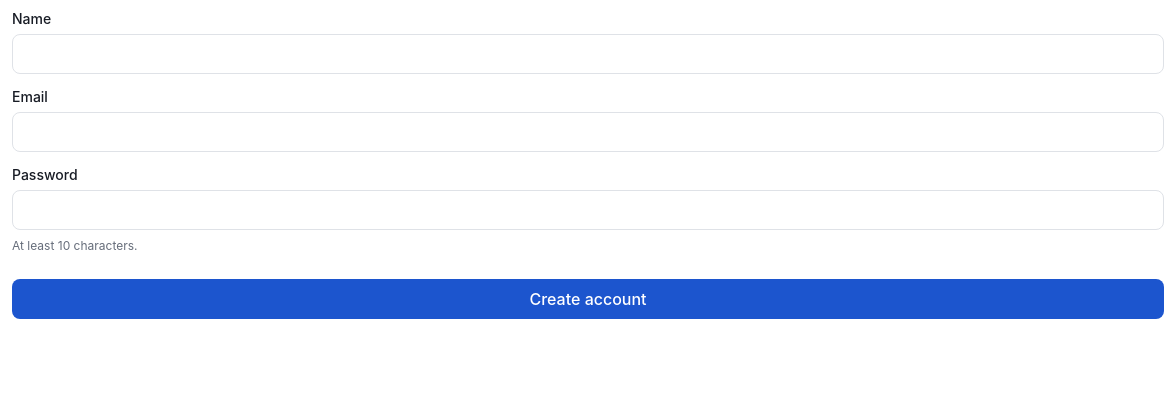
Test: RegisterForm › shows a conflict error for a duplicate email
Step 1. Type "Alice" into the field labelled "Name" → (588, 54), box [12, 34, 1164, 74]
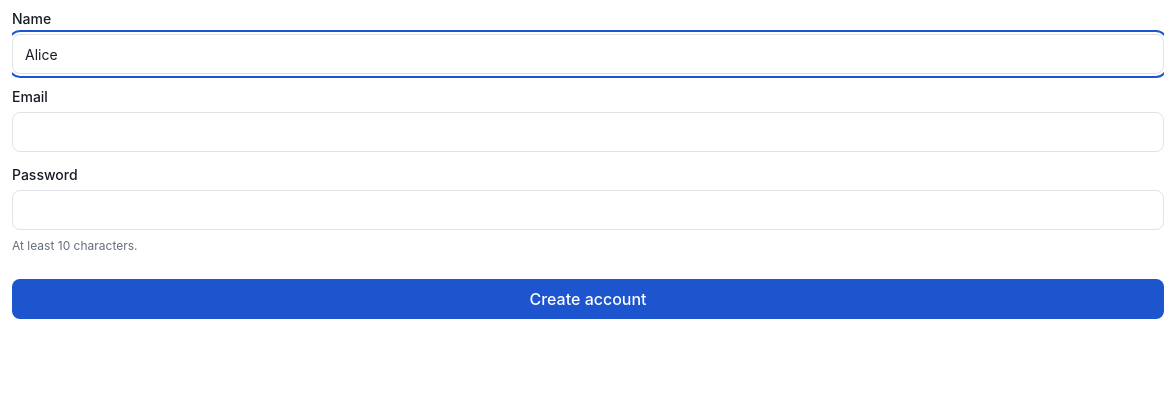
Step 2. Type "alice@example.com" into the field labelled "Email" → (588, 132), box [12, 112, 1164, 152]
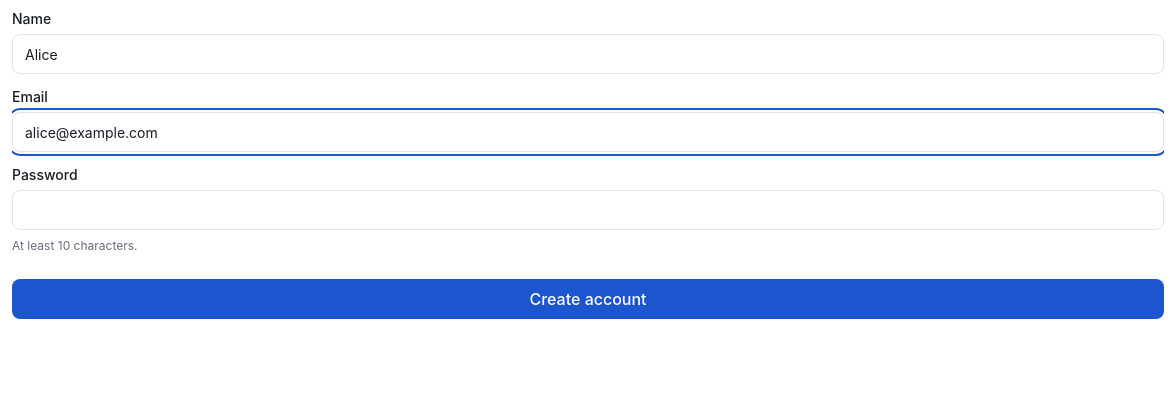
Step 3. Type "correct-horse-battery" into the password field labelled "Password" → (588, 210), box [12, 190, 1164, 230]
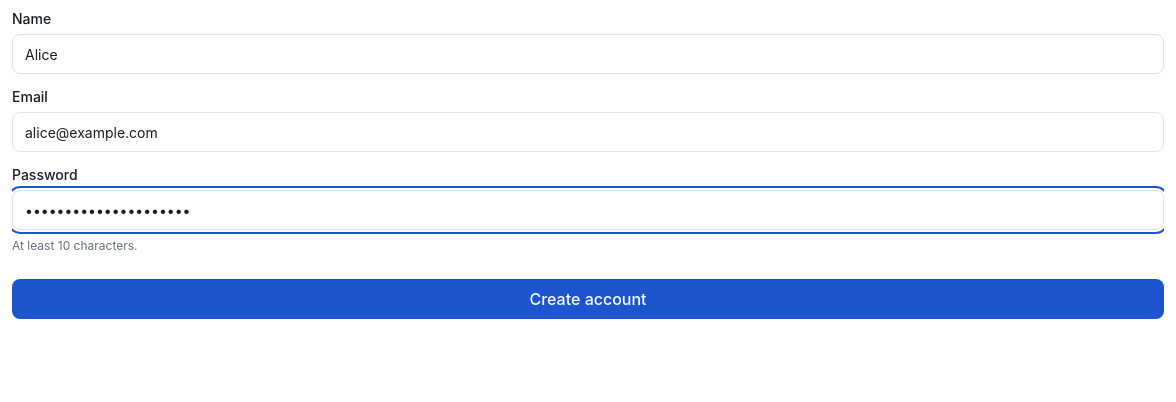
Step 4. Click the button "Create account" → (588, 299), box [12, 279, 1164, 319]
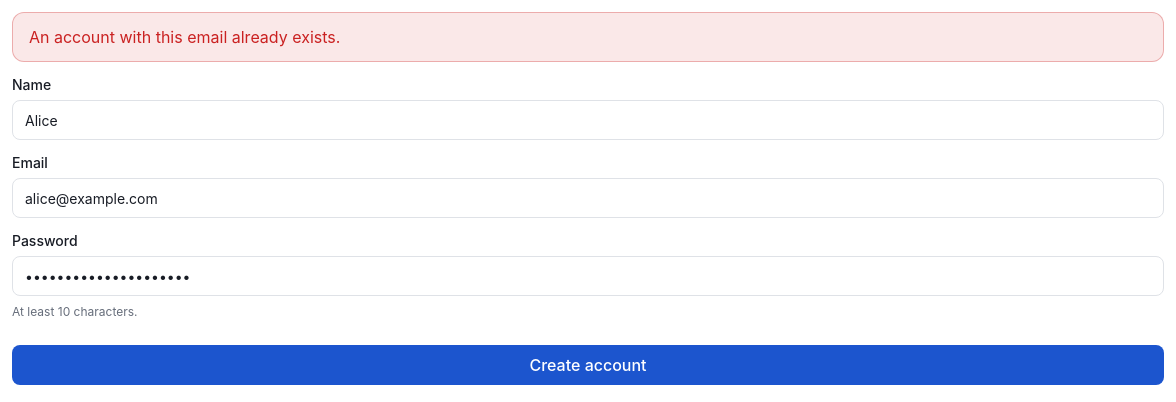
Expected: the message reads "An account with this email already exists.", [29, 27, 340, 47]
